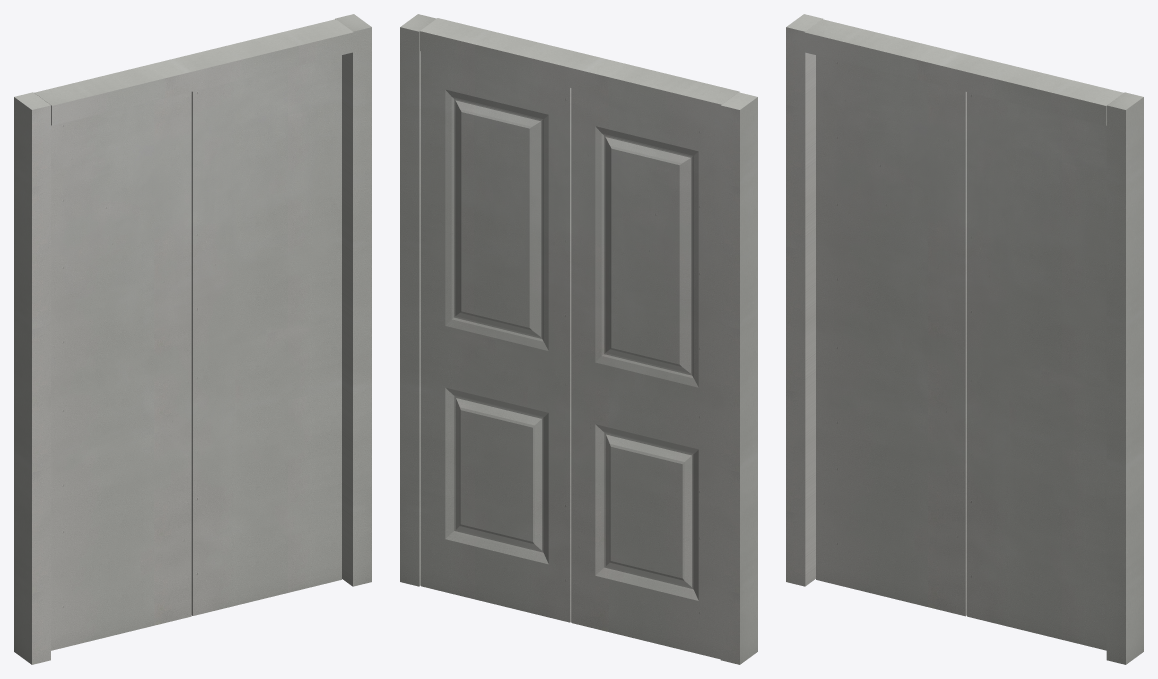
Rendered from Door3.fbx.
3 renders of one model, left to right at view 1: azimuth 30°, elevation 25°; view 2: azimuth 150°, elevation 25°; view 3: azimuth 330°, elevation 25°, orthographic.
Parts seen in each view (by area): view 1: polySurface842; view 2: polySurface842; view 3: polySurface842.
Part boxes in pixels (left/top/right/bottom): polySurface842: left=14, top=14, right=371, bottom=664; polySurface842: left=400, top=14, right=757, bottom=664; polySurface842: left=786, top=14, right=1143, bottom=664.
Size of the model in its own units: 1.35 by 2.11 by 0.1297.
Materials: 1 (1 with a texture image).
